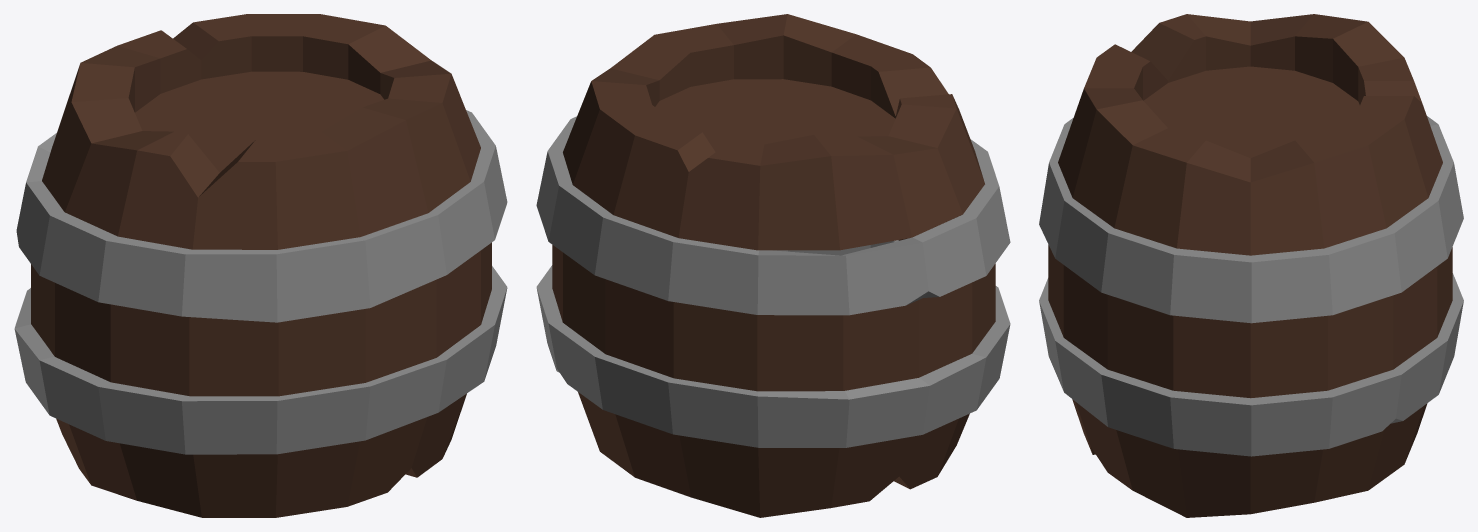
Rendered from barrel.fbx.
3 renders of one model, left to right at view 1: azimuth 30°, elevation 25°; view 2: azimuth 150°, elevation 25°; view 3: azimuth 270°, elevation 25°, orthographic. The views are drawn at different scales.
Visible parts, largest first — view 1: Cylinder.001, Cylinder.002; view 2: Cylinder.001, Cylinder.002; view 3: Cylinder.001, Cylinder.002.
Part boxes in pixels (x1,y1,x2,y2): Cylinder.001: (31,14,491,517); Cylinder.002: (14,110,507,454); Cylinder.001: (552,14,995,517); Cylinder.002: (536,116,1010,447); Cylinder.001: (1048,14,1452,517); Cylinder.002: (1039,116,1463,456).
Size of the model in its own units: 97.13 by 78.83 by 83.2.
